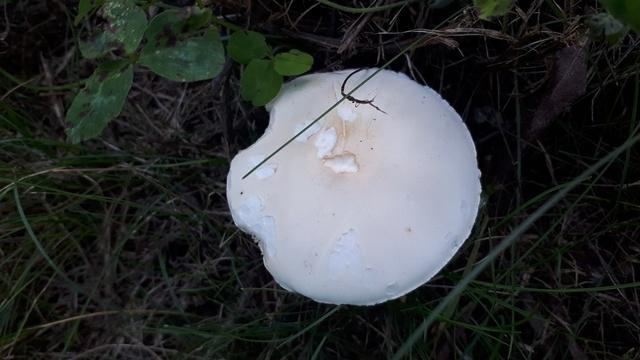Non-edible Mushroom: (224, 65, 483, 307)
